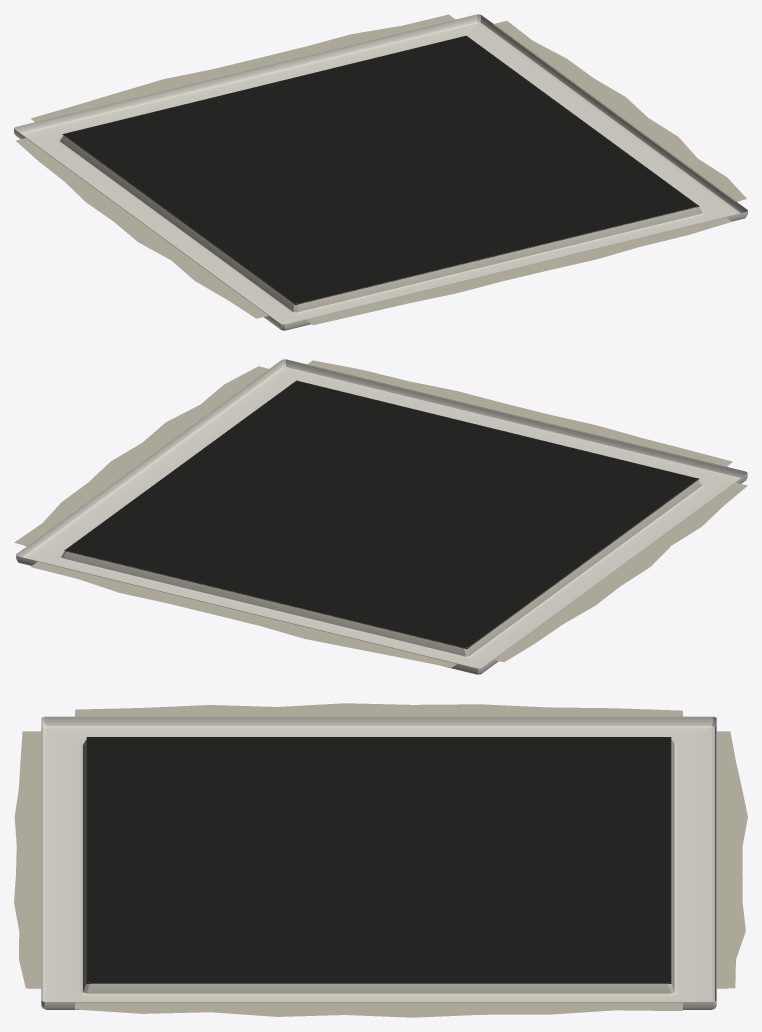
The model's file is ceiling_diffuser.glb.
3 views of the same model, one above another, from view 1: azimuth 30°, elevation 25°; view 2: azimuth 150°, elevation 25°; view 3: azimuth 270°, elevation 25° (orthographic). The views are drawn at different scales.
Parts seen in each view (by area): view 1: luftauslass; view 2: luftauslass; view 3: luftauslass.
Part boxes in pixels (box(x1,y1,x2,y2)): luftauslass: box(14, 14, 747, 330); luftauslass: box(14, 359, 747, 674); luftauslass: box(14, 703, 747, 1017).
Bounding box in the file's own units: 0.6566 × 0.0489 × 0.6476.
